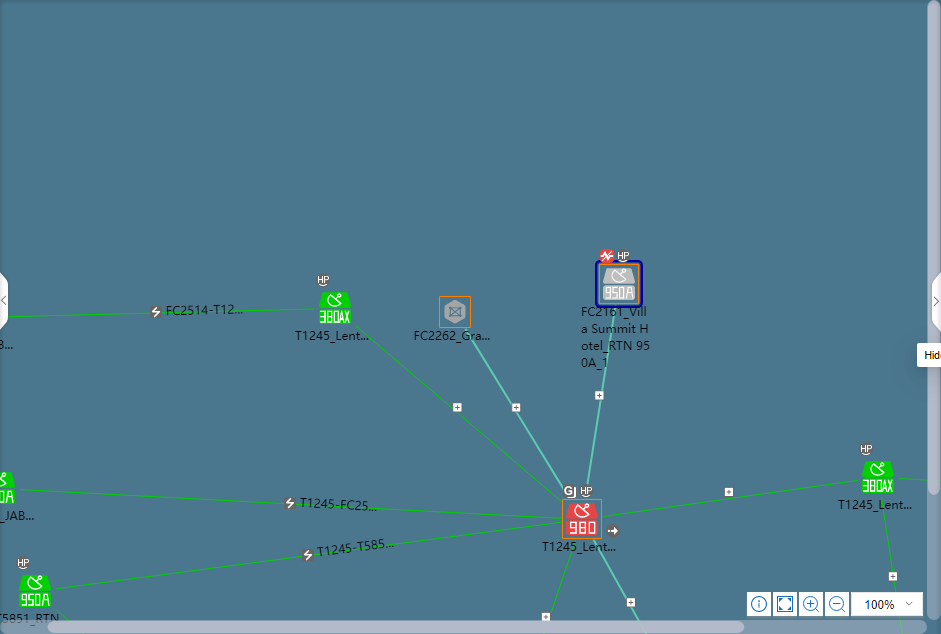Link_Blue: (464, 329, 563, 491), (586, 309, 617, 485), (592, 540, 640, 621)
Link_Green: (356, 323, 561, 505), (54, 521, 561, 591), (20, 486, 562, 520), (603, 479, 858, 518), (8, 307, 315, 320), (549, 540, 576, 613), (879, 498, 897, 593), (899, 478, 927, 481)
RTN_Gray: (599, 266, 637, 303)
RTN_Green: (862, 462, 893, 494), (19, 577, 50, 608), (319, 293, 349, 324)
RTN_Red: (562, 502, 600, 538)
